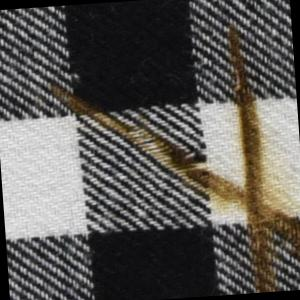Oil Stain: (44, 17, 300, 300)
